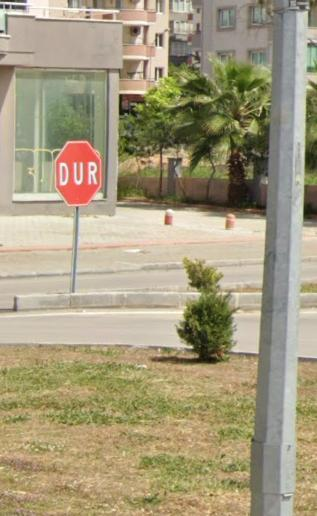stop: (53, 140, 103, 207)
